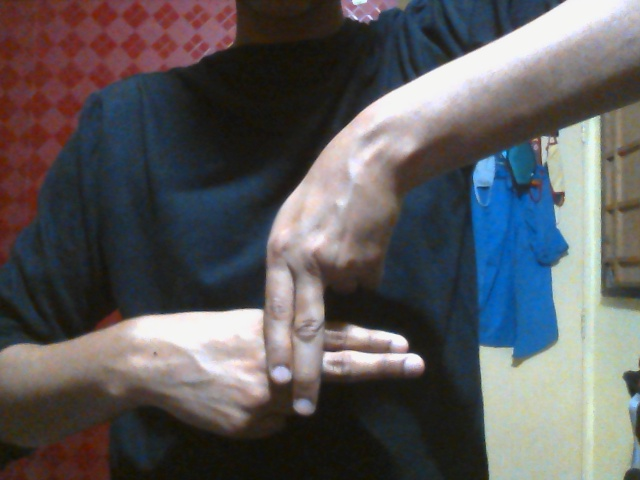F: (145, 156, 428, 443)
